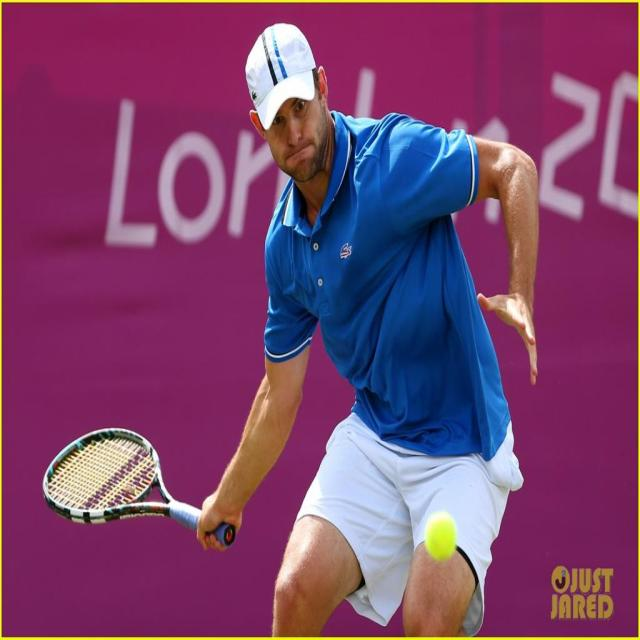Face: (248, 55, 327, 189)
